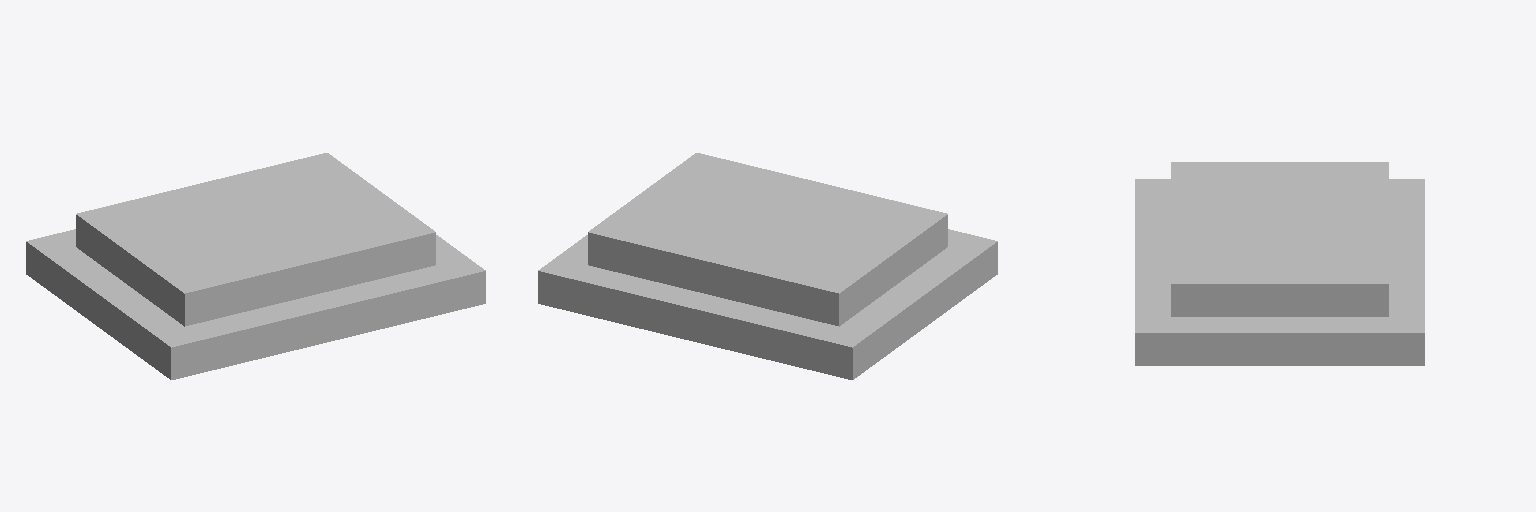
Rendered from Platform_Chests-2.obj.
3 views of the same model, side by side, from view 1: azimuth 30°, elevation 25°; view 2: azimuth 150°, elevation 25°; view 3: azimuth 270°, elevation 25° (orthographic).
Visible parts, largest first — view 1: Platform_Chests-2.001; view 2: Platform_Chests-2.001; view 3: Platform_Chests-2.001.
Part boxes in pixels (bbox=[...]): Platform_Chests-2.001: bbox=[26, 153, 485, 379]; Platform_Chests-2.001: bbox=[538, 153, 997, 379]; Platform_Chests-2.001: bbox=[1135, 162, 1424, 365].
Size of the model in its own units: 5 by 1 by 4.